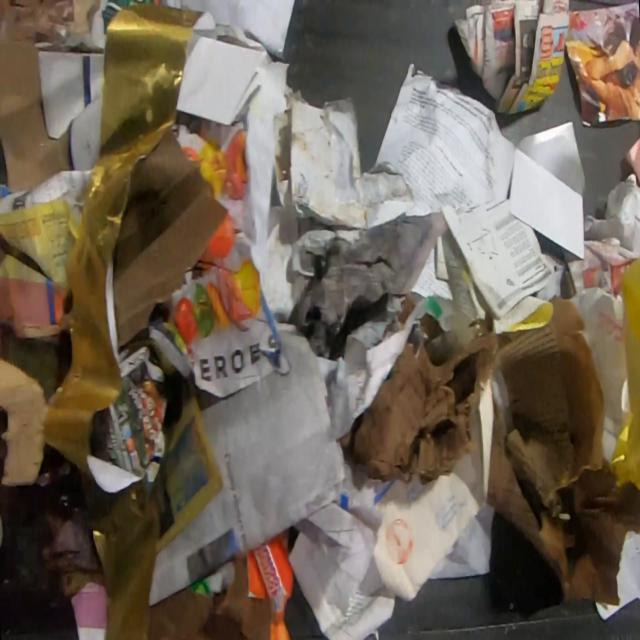cardboard: (32, 0, 160, 172), (270, 87, 416, 231), (0, 0, 102, 197), (0, 358, 48, 488), (248, 528, 296, 640)
soft_plastic: (46, 3, 206, 639)
